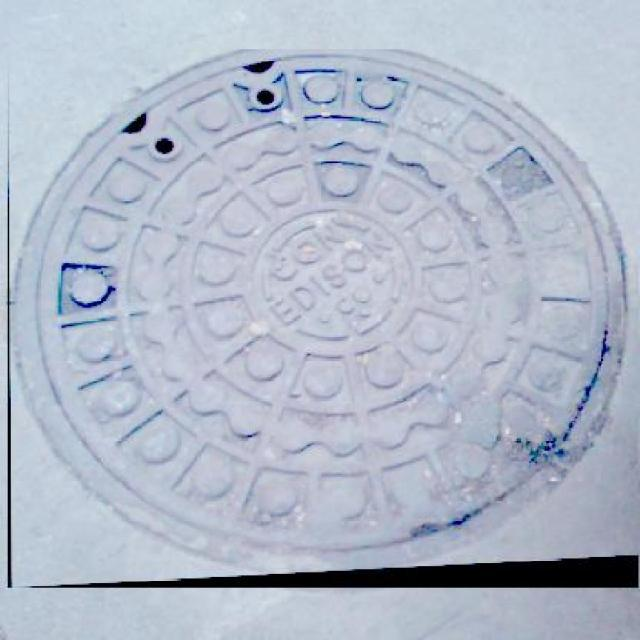Manhole: (9, 49, 640, 588)
